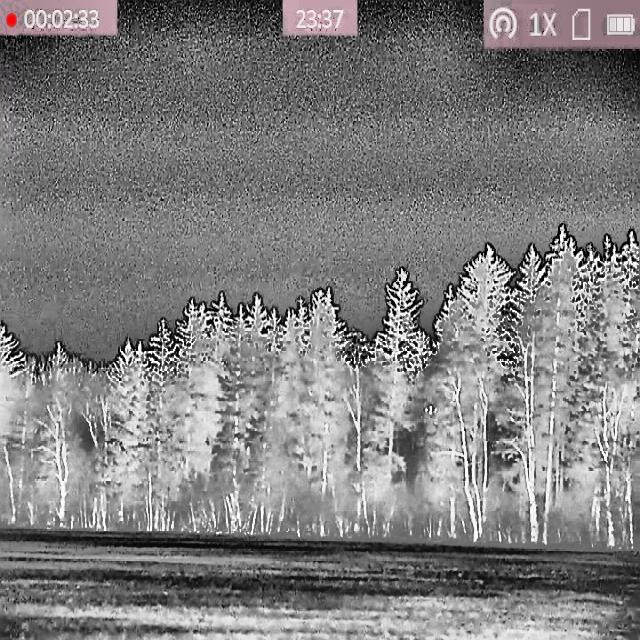drone: (424, 404, 438, 416)
